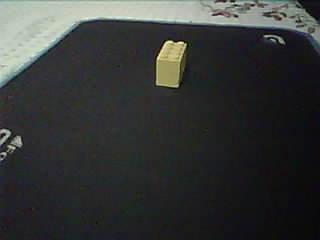lego: (154, 36, 187, 89)
